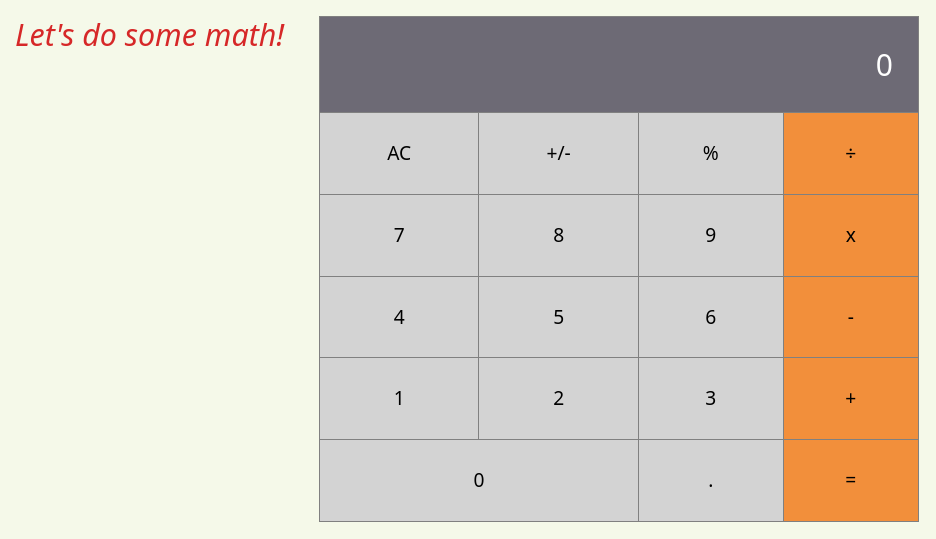
Test: Calculator component › Division is carried out correctly
Click the button "2" at (559, 399), box [547,383,570,414]
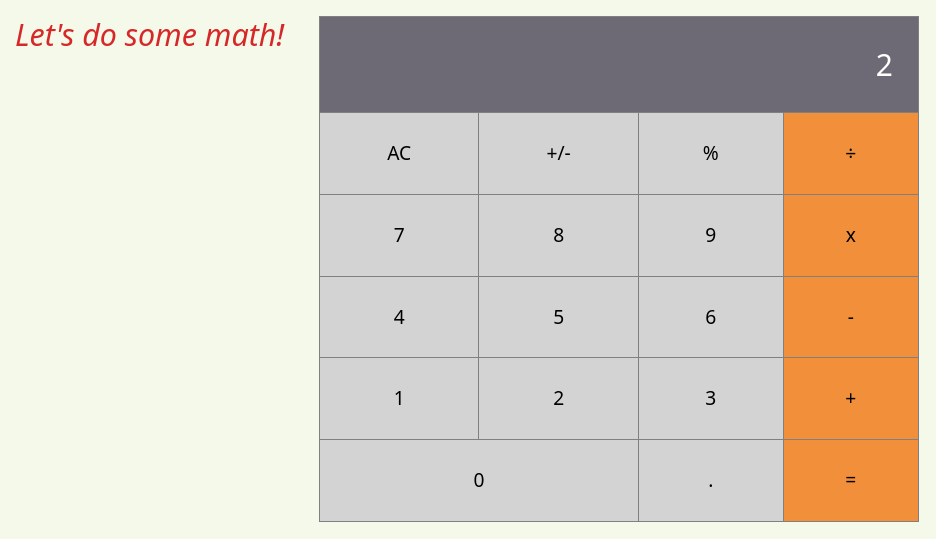
Click the button "÷" at (851, 153), box [839,138,862,169]
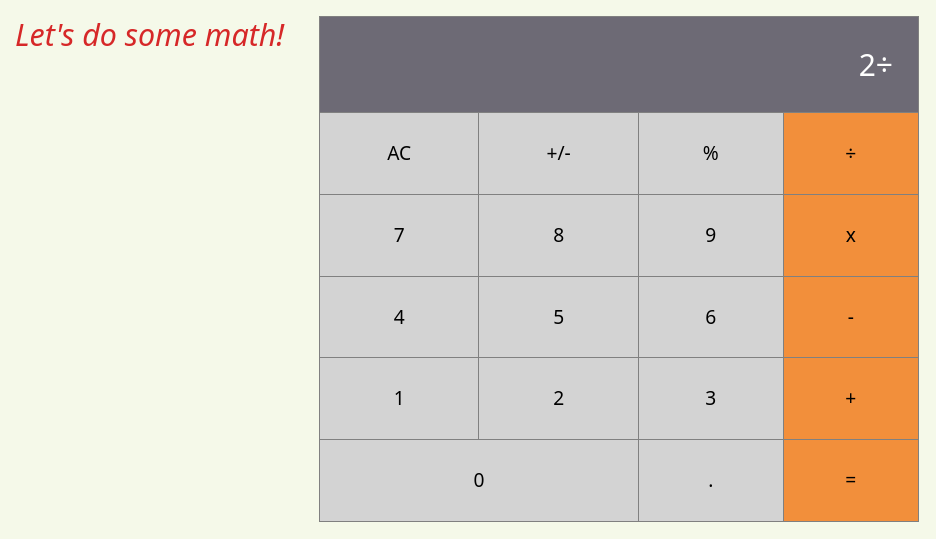
Click the button "2" at (559, 399), box [547,383,570,414]
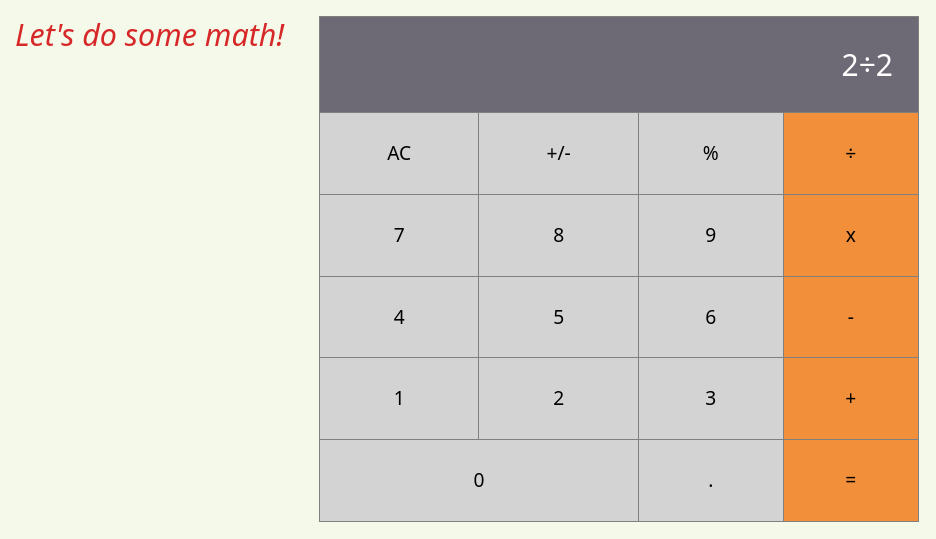
Click the button "=" at (851, 481), box [839,465,862,496]
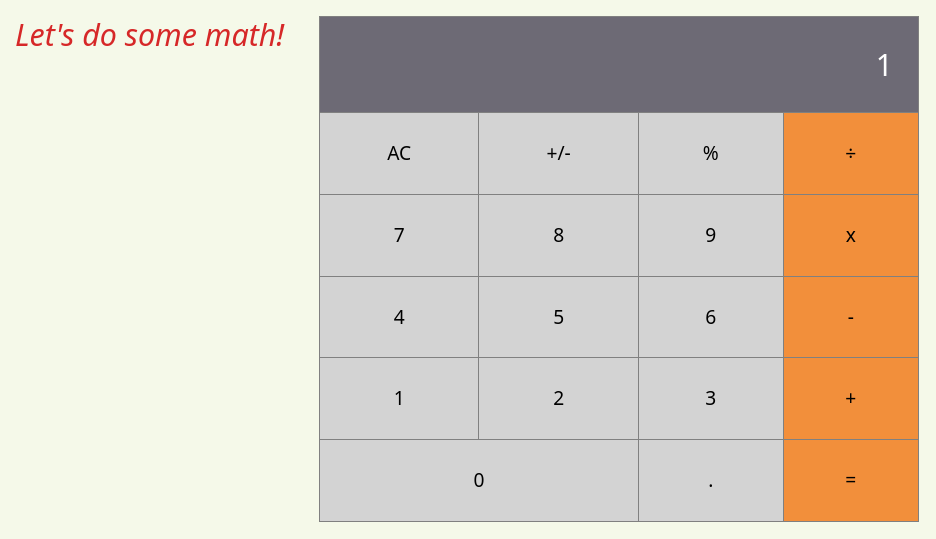
Expected: the text "1" is shown, [320,16,918,112]
